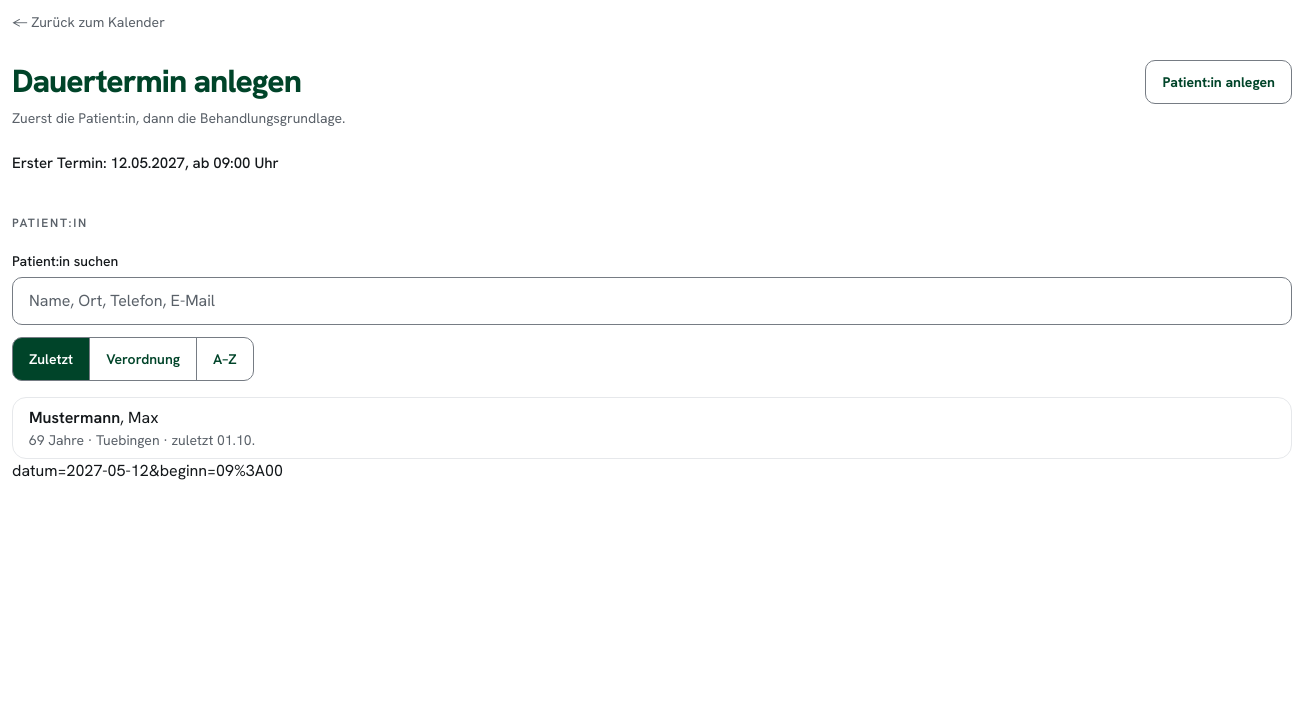
Scenario: DauerterminStartPage › hält den Suchbegriff aus jeder Adresse heraus (ADR-011)
Type "muster" into the search field labelled "Patient:in suchen" at (652, 300), box [12,276,1292,324]
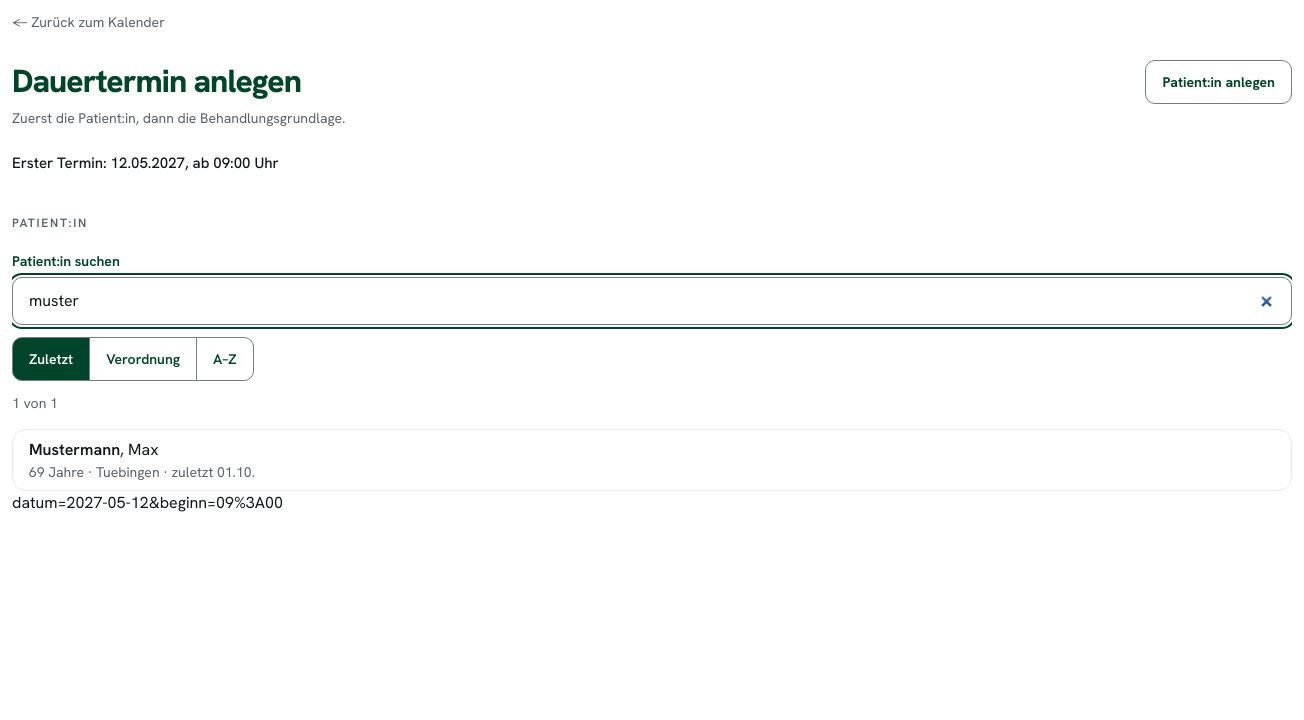
Click the button "A–Z" at (225, 358), box [196,336,254,380]
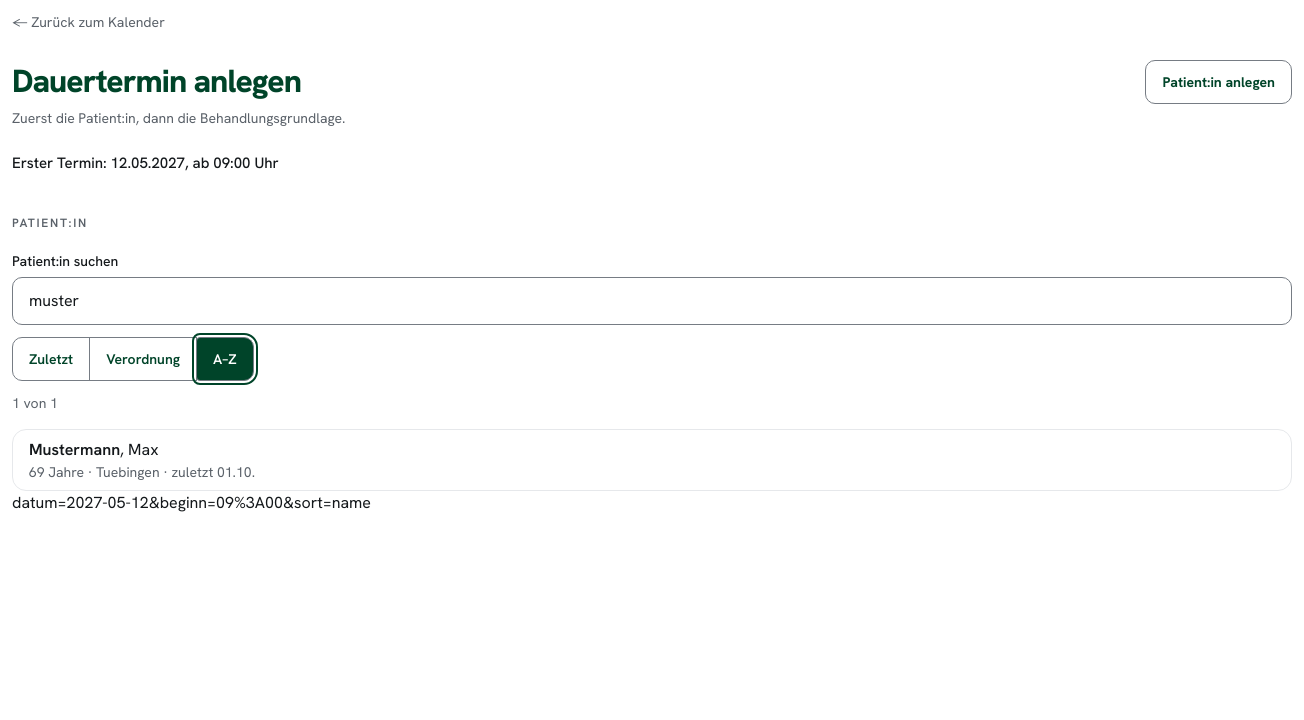
Expected: the element with test id "adresse" does not show "muster"
Result: the text with test id "adresse" shows "sort=name" at [12,492,371,512]
